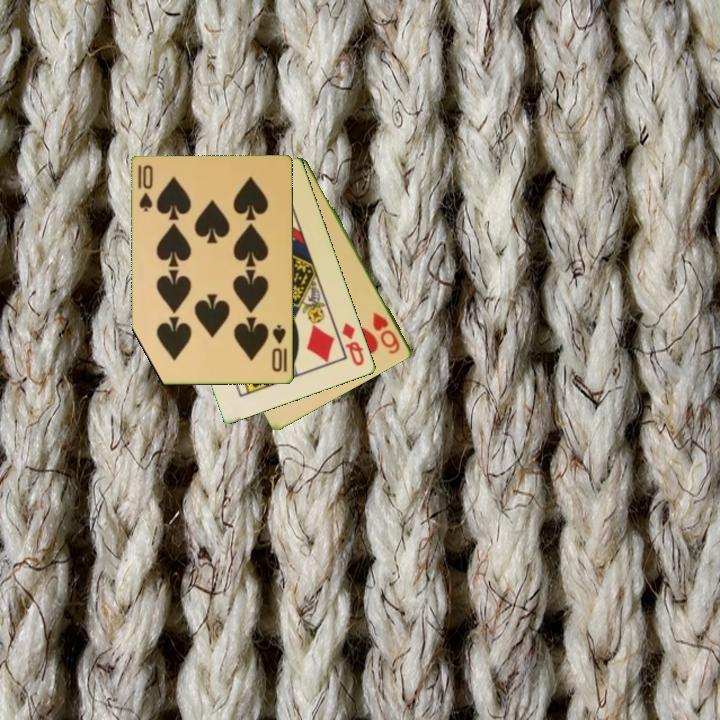10s: (268, 321, 290, 375), (135, 162, 156, 215)
6h: (369, 308, 403, 358)
Qd: (338, 319, 368, 369)
